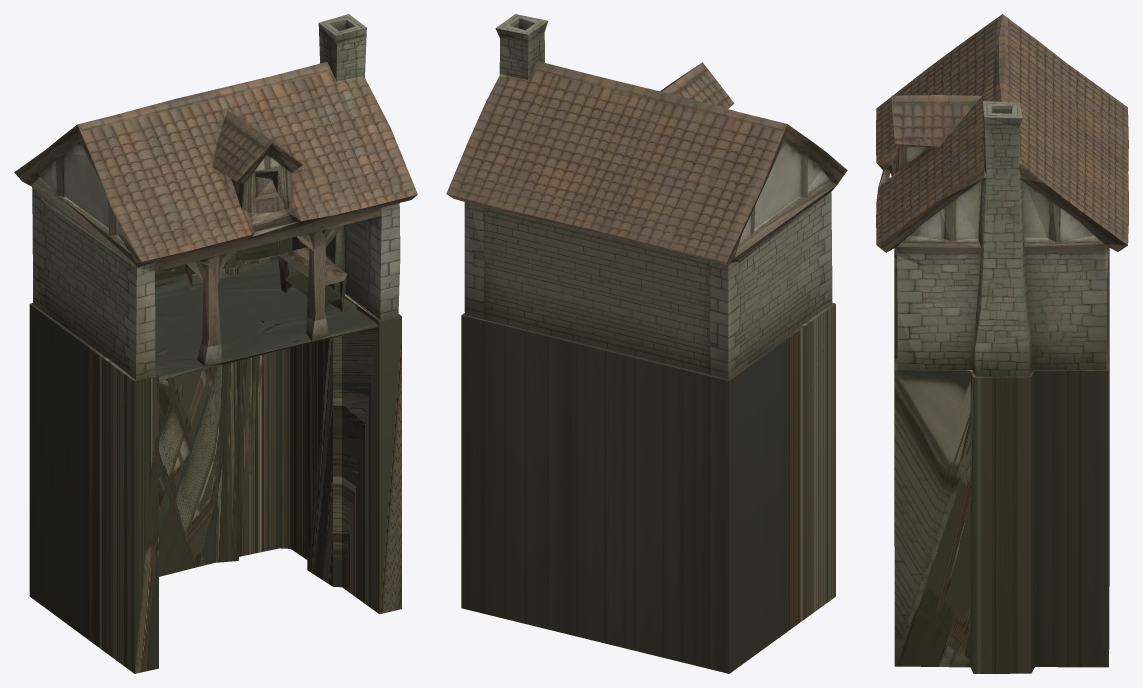
File: workshop.glb
3 views of the same model, side by side, from view 1: azimuth 30°, elevation 25°; view 2: azimuth 150°, elevation 25°; view 3: azimuth 270°, elevation 25° (orthographic).
Parts seen in each view (by area): view 1: workshop_export; view 2: workshop_export; view 3: workshop_export.
Boxes of the visible parts, x1=… form: workshop_export: x1=14, y1=14, x2=417, y2=673; workshop_export: x1=446, y1=14, x2=847, y2=673; workshop_export: x1=876, y1=14, x2=1128, y2=673.
Size of the model in its own units: 19 by 34.3 by 14.19.
Materials: 2 (2 with a texture image).
